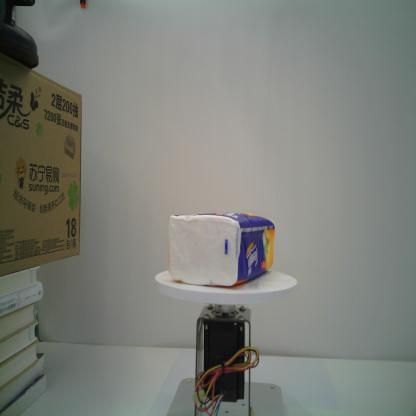Tissue: (167, 211, 277, 289)
